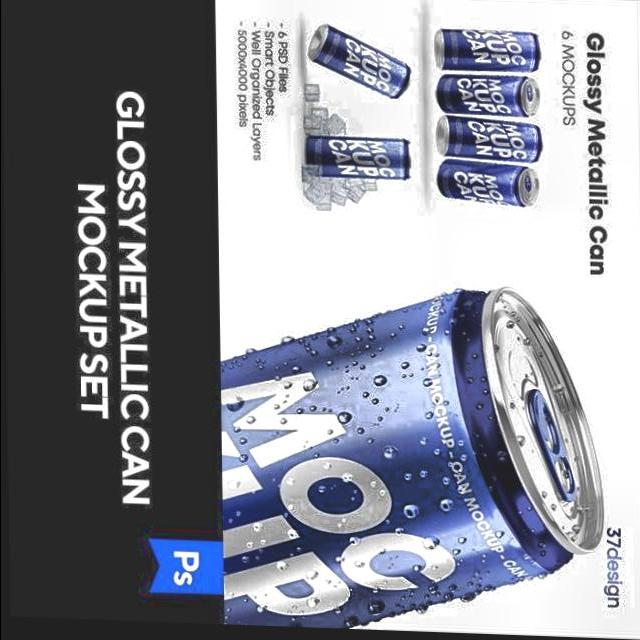Aluminum Can: (212, 274, 618, 640), (302, 11, 418, 104), (429, 110, 551, 168), (436, 157, 544, 219), (432, 64, 546, 121), (299, 133, 416, 188), (432, 25, 549, 78)
